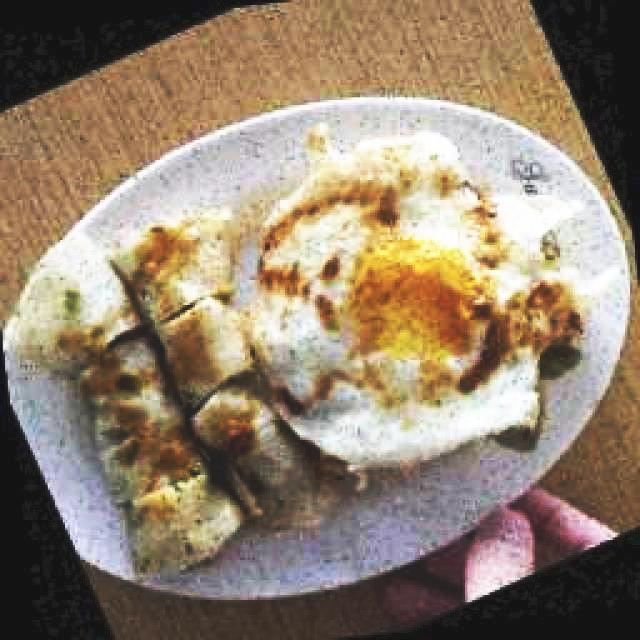fried_eggs: (254, 135, 556, 473)
